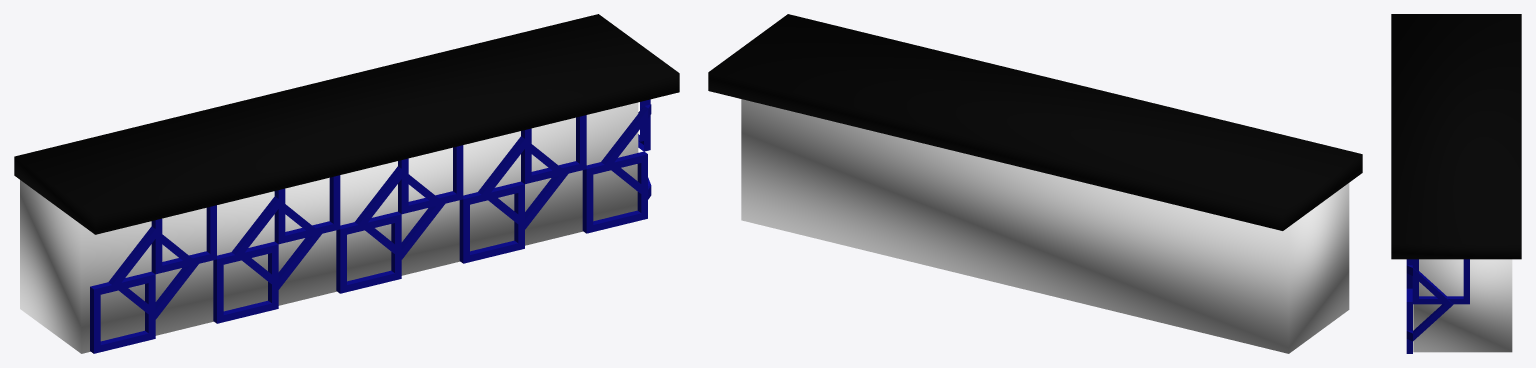
File: Bar.glb
3 renders of one model, left to right at view 1: azimuth 30°, elevation 25°; view 2: azimuth 150°, elevation 25°; view 3: azimuth 270°, elevation 25°, orthographic. The views are drawn at different scales.
Visible parts, largest first — view 1: Bar; view 2: Bar; view 3: Bar.
Part boxes in pixels (<box>): Bar: <box>14,14,679,353</box>; Bar: <box>708,14,1362,353</box>; Bar: <box>1391,14,1521,353</box>.
Bounding box in the file's own units: 9.49 × 2.3 × 2.28.
